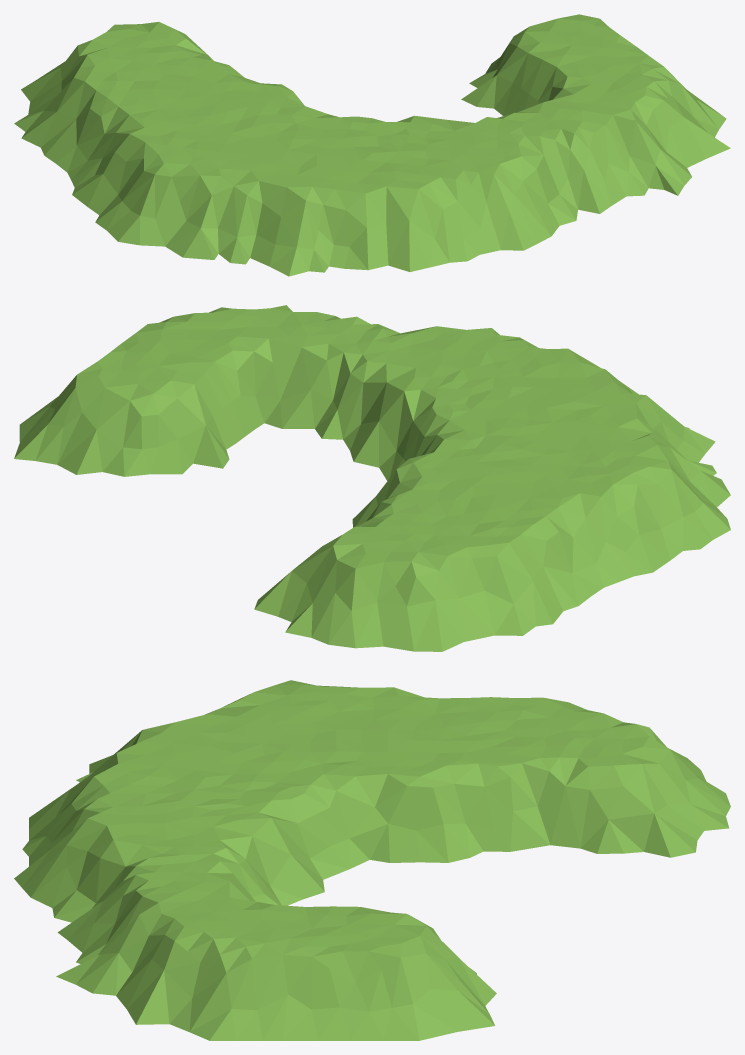
Rendered from MT_Island_L_a_11_LOD.fbx.
3 renders of one model, top to bottom at view 1: azimuth 30°, elevation 25°; view 2: azimuth 150°, elevation 25°; view 3: azimuth 270°, elevation 25°, orthographic. The views are drawn at different scales.
Parts seen in each view (by area): view 1: MT_Island_L_a_11_LOD0; view 2: MT_Island_L_a_11_LOD0; view 3: MT_Island_L_a_11_LOD0.
Part boxes in pixels (x1=…): MT_Island_L_a_11_LOD0: x1=14, y1=14, x2=730, y2=276; MT_Island_L_a_11_LOD0: x1=14, y1=305, x2=730, y2=651; MT_Island_L_a_11_LOD0: x1=14, y1=680, x2=730, y2=1040.
Size of what is drawn, in the model's own units: 9420 by 844 by 8672.
